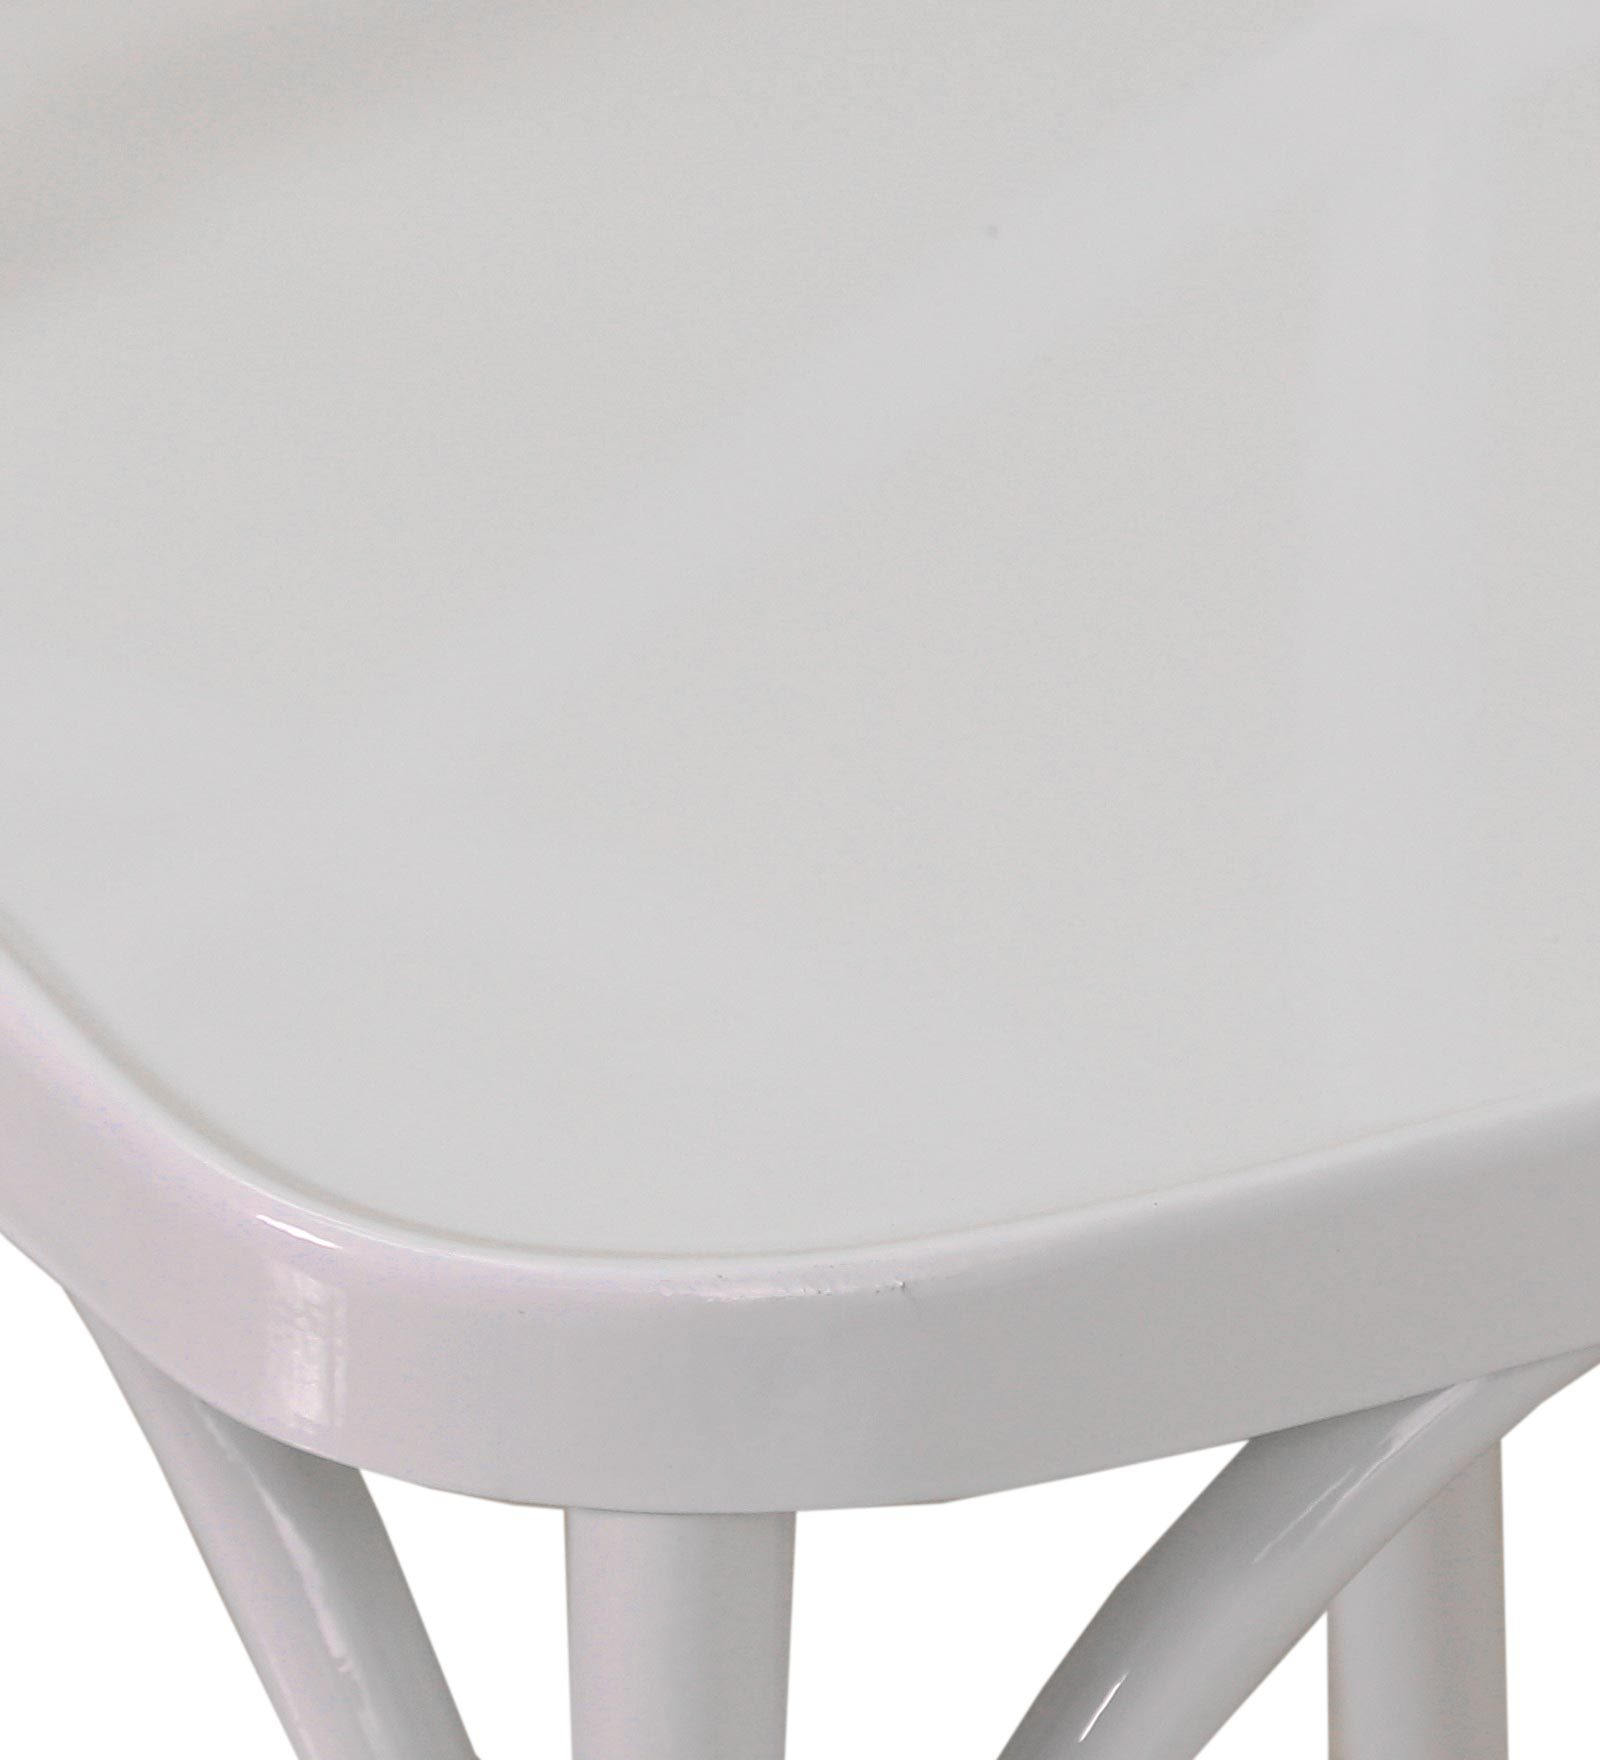Fabian Metal Chair in White Color by Bohemiana: (2, 8, 1600, 1760)
